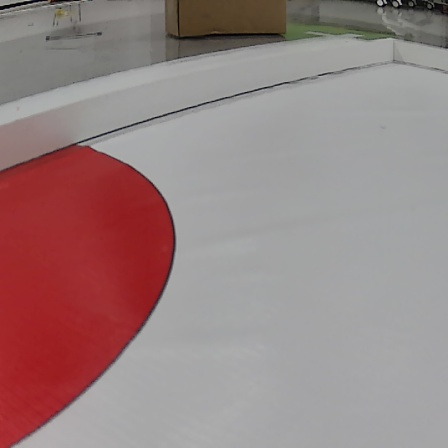red_base: (2, 139, 188, 448)
